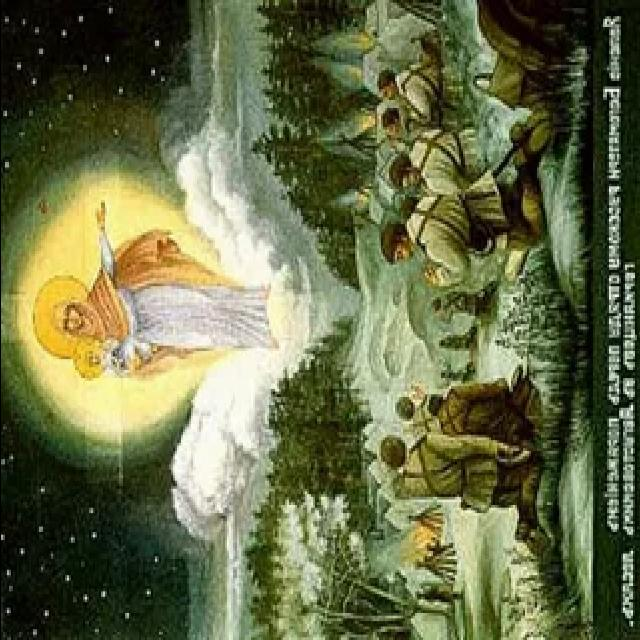mother of god: (39, 192, 284, 406)
